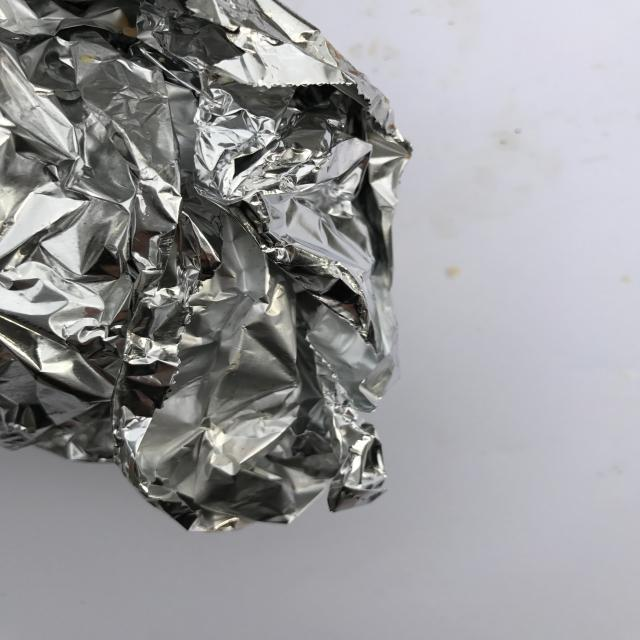metal: (1, 2, 414, 538)
